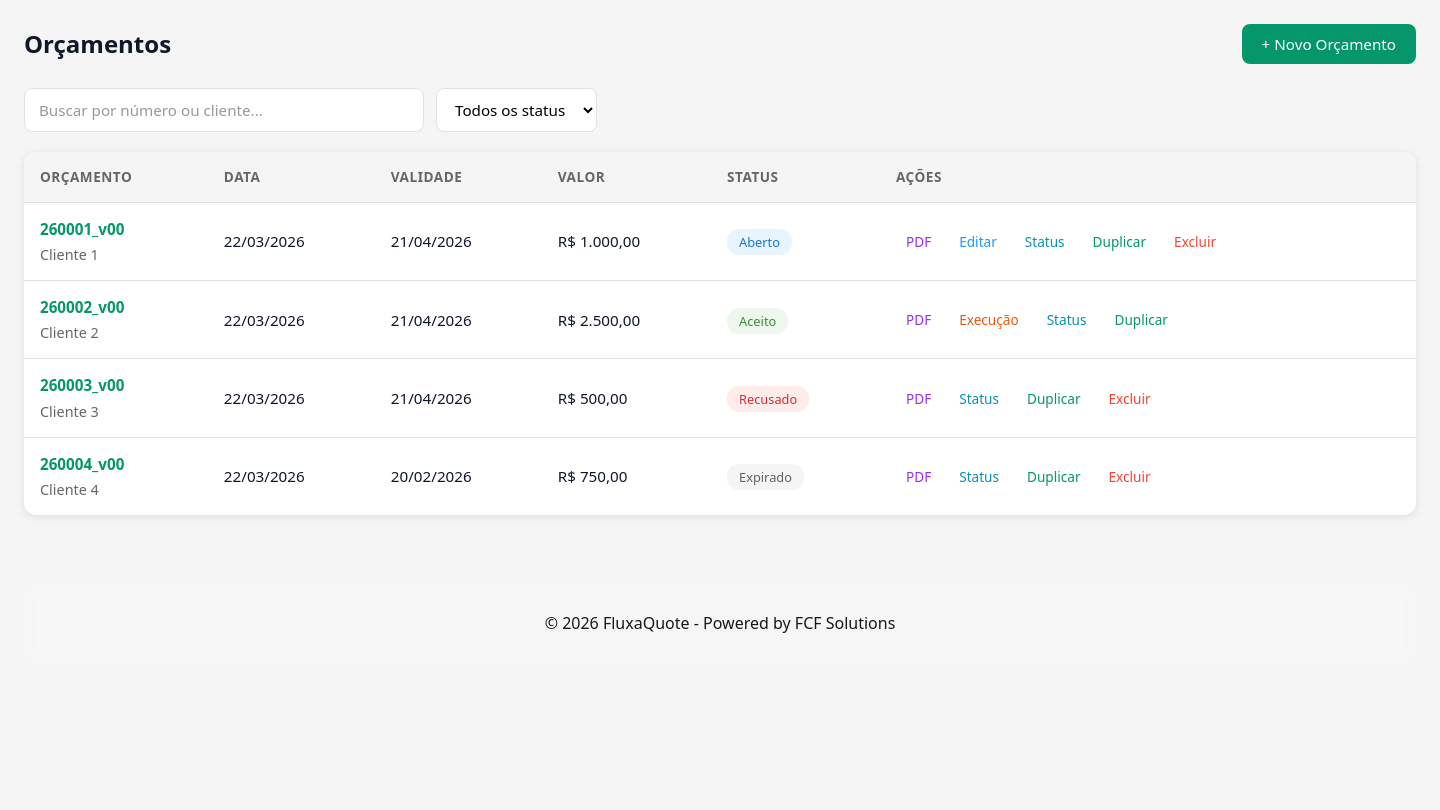
it: Orcamentos › deve abrir modal de alteração de status
This screenshot has width=1440, height=810.
Click the button titled "Alterar Status" in the row of "260001_v00" at (1045, 241), box top-left (1015, 226), bottom-right (1075, 257)
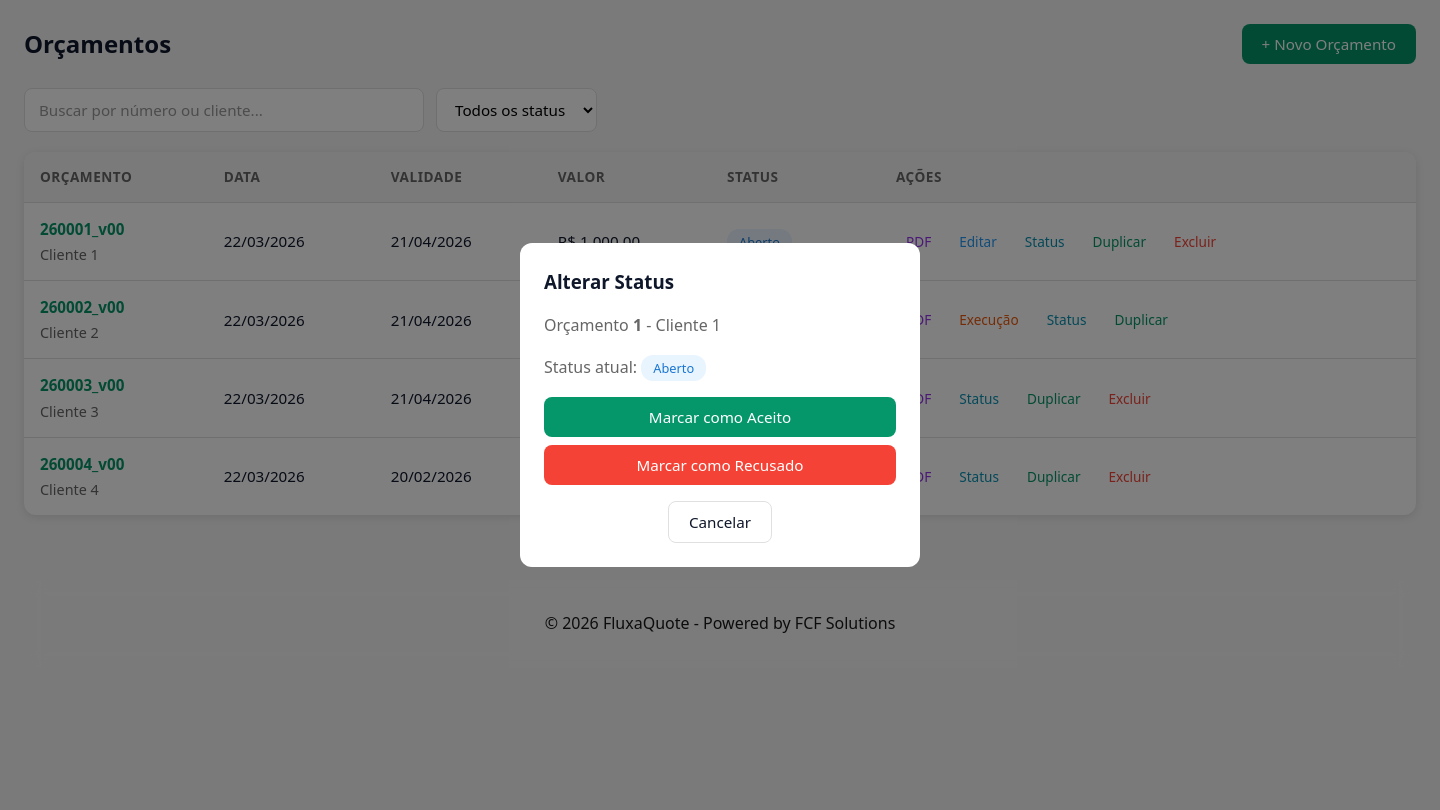
Now the heading "Alterar Status" is shown, box top-left (544, 269), bottom-right (674, 294)
